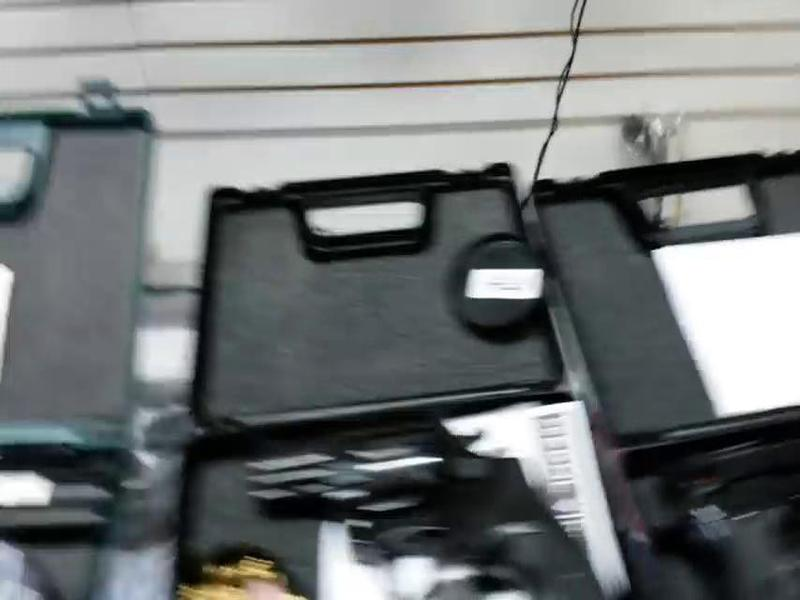Revolver: (221, 404, 604, 600)
